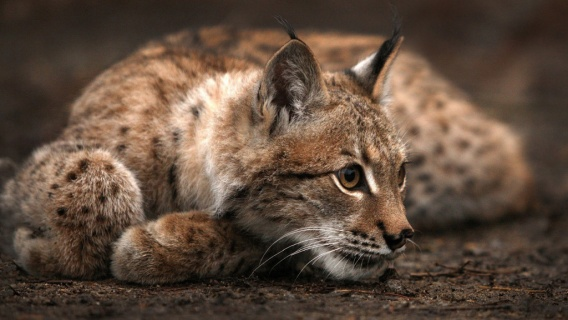Cat: (0, 2, 537, 287)
